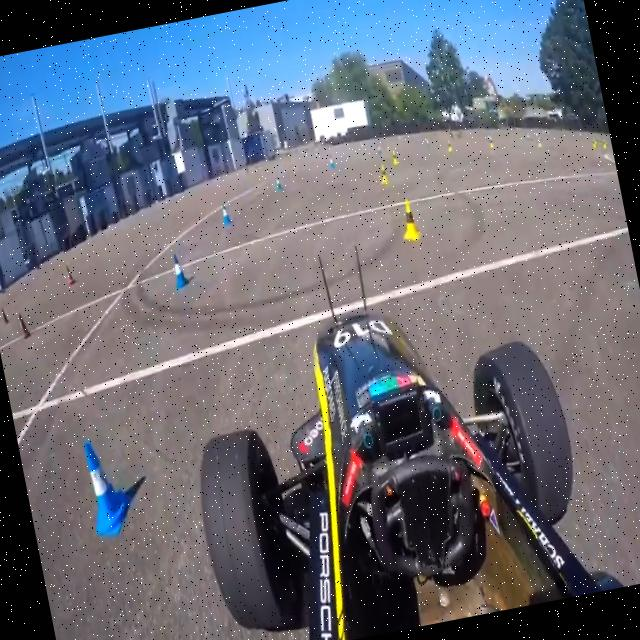blue_cone: (78, 434, 138, 544), (166, 248, 190, 290), (220, 201, 232, 226), (274, 173, 284, 194), (326, 152, 336, 172)
yellow_cone: (396, 192, 422, 244), (378, 163, 389, 185), (391, 148, 399, 166), (446, 138, 454, 154), (488, 136, 495, 150)
